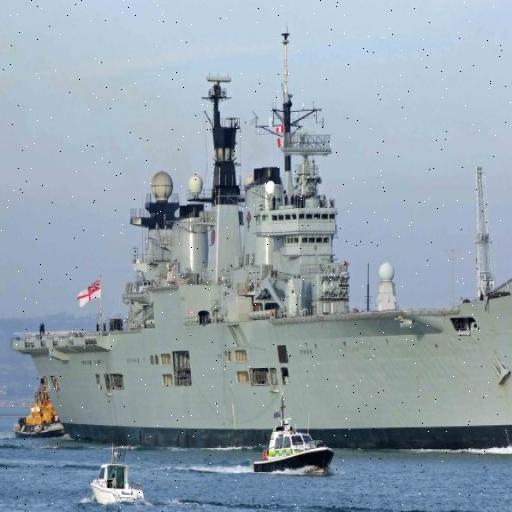Portanaves: (2, 22, 512, 462)
